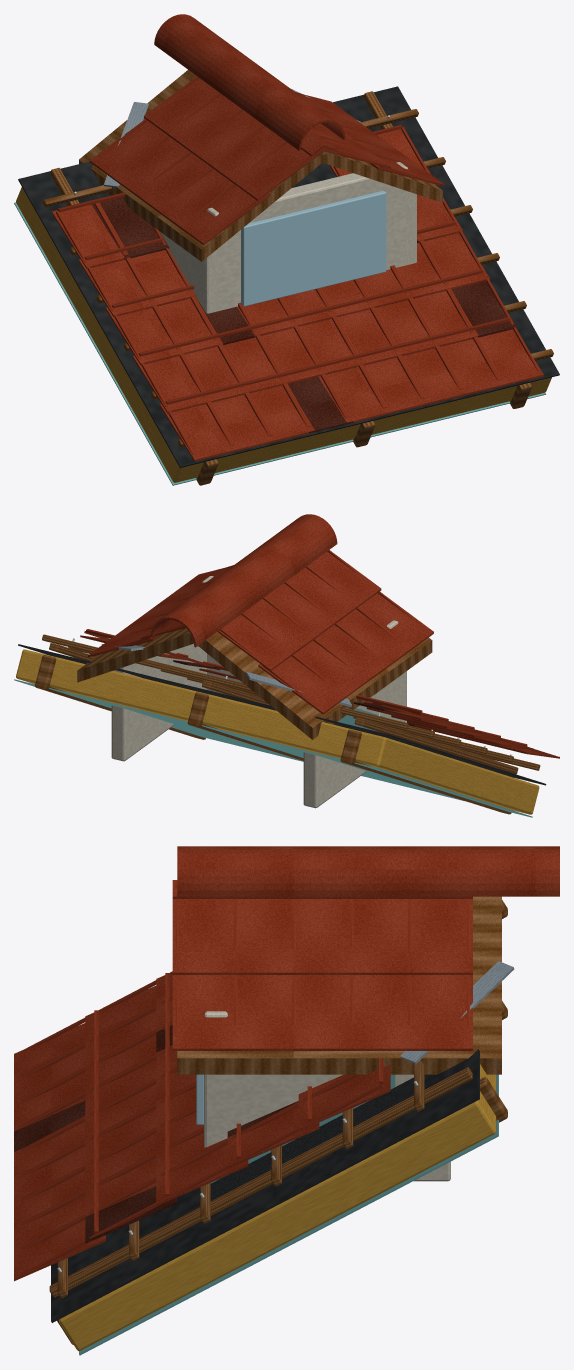
The model's file is modell.glb.
3 views of the same model, one above another, from view 1: azimuth 30°, elevation 25°; view 2: azimuth 150°, elevation 25°; view 3: azimuth 270°, elevation 25° (orthographic). The views are drawn at different scales.
Visible parts, largest first — view 1: s10-deckziegel_deckung, s10-gaubendach_deckung, s10-zusatzebene_zusatzebene, s10-wange_.001, s10-daemmung_daemmung, s10-wange_, s10-deckziegel_deckung.001, s10-gaubendach_tragwerk, s10-lattung_lattung, s10-luftdichtheit_luftdichtheit, s10-sparren_tragwerk, s10-kehle_deckung; view 2: s10-gaubendach_deckung, s10-daemmung_daemmung, s10-gaubendach_tragwerk, s10-wange_, s10-lattung_lattung, s10-luftdichtheit_luftdichtheit, s10-deckziegel_deckung, s10-sparren_tragwerk, s10-zusatzebene_zusatzebene, s10-kehle_deckung; view 3: s10-gaubendach_deckung, s10-deckziegel_deckung, s10-daemmung_daemmung, s10-zusatzebene_zusatzebene, s10-gaubendach_tragwerk, s10-lattung_lattung, s10-wange_, s10-deckziegel_deckung.001, s10-wangenanschluss_zusatzebene, s10-luftdichtheit_luftdichtheit, s10-kehle_deckung, s10-sparren_tragwerk.
Part boxes in pixels (x1,y1,x2,y2): s10-deckziegel_deckung: (52, 125, 543, 461); s10-gaubendach_deckung: (90, 14, 444, 245); s10-zusatzebene_zusatzebene: (18, 86, 559, 467); s10-wange_.001: (241, 190, 386, 306); s10-daemmung_daemmung: (16, 187, 551, 482); s10-wange_: (159, 162, 416, 313); s10-deckziegel_deckung.001: (91, 197, 516, 433); s10-gaubendach_tragwerk: (79, 70, 442, 261); s10-lattung_lattung: (42, 91, 553, 447); s10-luftdichtheit_luftdichtheit: (14, 202, 545, 485); s10-sparren_tragwerk: (196, 382, 531, 485); s10-kehle_deckung: (103, 88, 360, 187); s10-gaubendach_deckung: (88, 514, 433, 714); s10-daemmung_daemmung: (16, 649, 539, 814); s10-gaubendach_tragwerk: (77, 628, 432, 739); s10-wange_: (111, 576, 406, 808); s10-lattung_lattung: (42, 634, 540, 774); s10-luftdichtheit_luftdichtheit: (14, 679, 532, 817); s10-deckziegel_deckung: (80, 629, 559, 758); s10-sparren_tragwerk: (35, 655, 511, 814); s10-zusatzebene_zusatzebene: (18, 644, 546, 785); s10-kehle_deckung: (101, 644, 351, 707); s10-gaubendach_deckung: (172, 846, 559, 1050); s10-deckziegel_deckung: (14, 971, 390, 1281); s10-daemmung_daemmung: (59, 1064, 496, 1350); s10-zusatzebene_zusatzebene: (51, 1049, 479, 1322); s10-gaubendach_tragwerk: (177, 896, 501, 1074); s10-lattung_lattung: (49, 1060, 472, 1298); s10-wange_: (204, 1011, 450, 1181); s10-deckziegel_deckung.001: (14, 1025, 298, 1243); s10-wangenanschluss_zusatzebene: (210, 1087, 395, 1201); s10-luftdichtheit_luftdichtheit: (79, 1074, 498, 1355); s10-kehle_deckung: (400, 961, 514, 1064); s10-sparren_tragwerk: (57, 900, 507, 1344).
Bounding box in the file's own units: 2.39 × 1.78 × 2.26.
10 materials, 7 textured.
